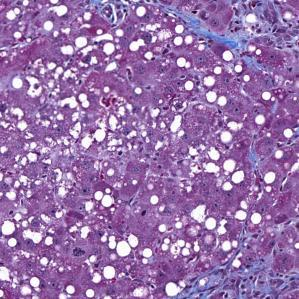fibrosis: (187, 11, 293, 67), (188, 256, 288, 296)
